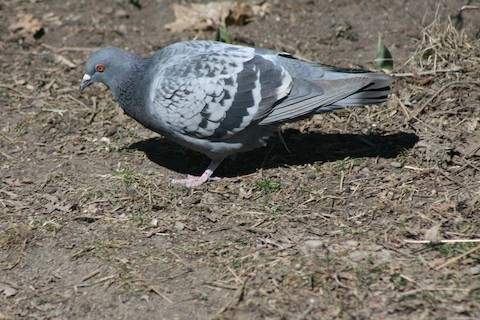pigeon: (78, 30, 398, 187)
